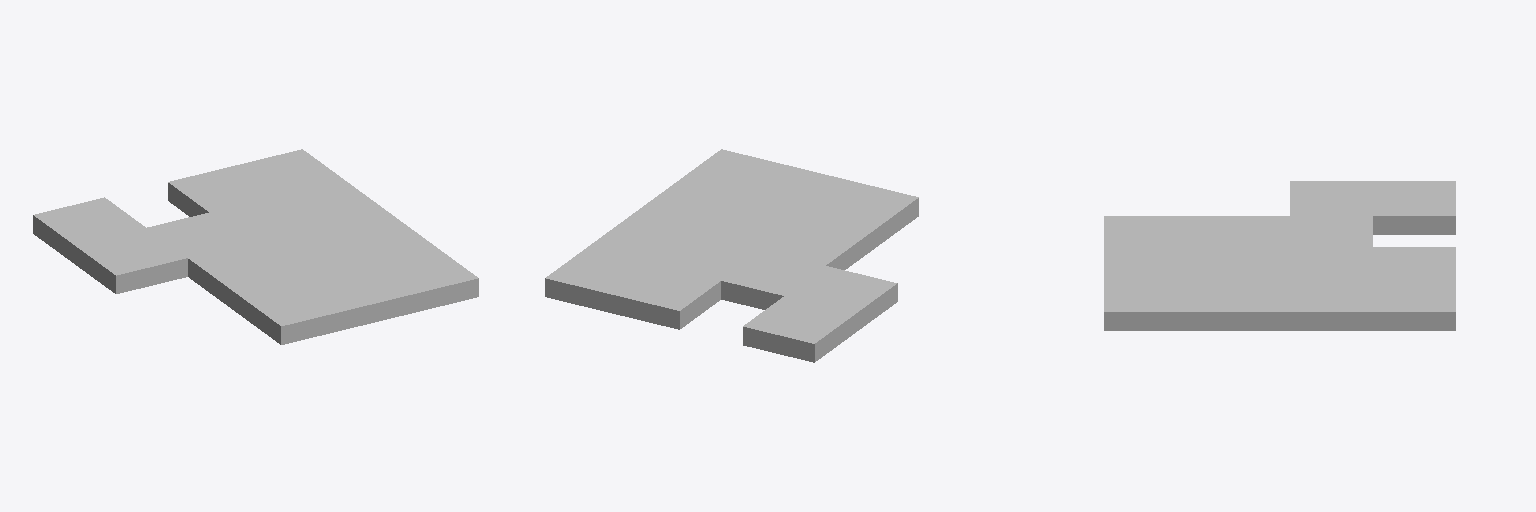
File: Level2Floor.obj
3 renders of one model, left to right at view 1: azimuth 30°, elevation 25°; view 2: azimuth 150°, elevation 25°; view 3: azimuth 270°, elevation 25°, orthographic.
Visible parts, largest first — view 1: Level2Floor; view 2: Level2Floor; view 3: Level2Floor.
Boxes of the visible parts, x1=… form: Level2Floor: x1=33, y1=149, x2=478, y2=344; Level2Floor: x1=545, y1=149, x2=918, y2=362; Level2Floor: x1=1104, y1=181, x2=1455, y2=330.
Bounding box in the file's own units: 15 × 1 × 17.